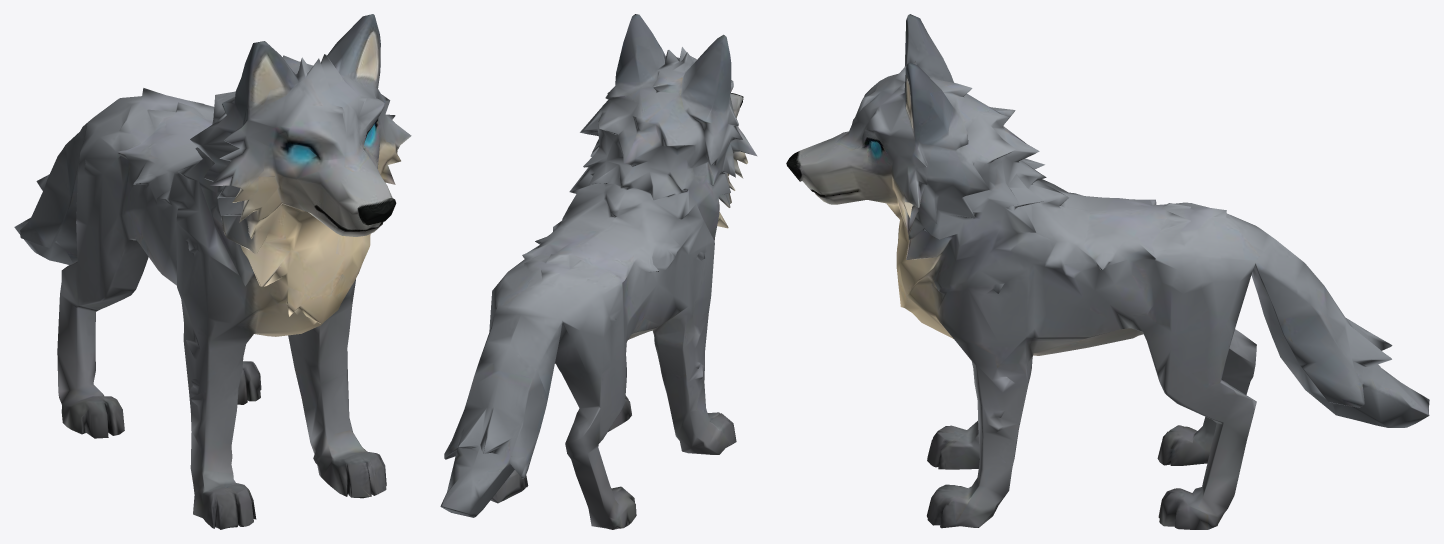
The model's file is frost_wolf.glb.
The picture shows the model from 3 angles, left to right: view 1: azimuth 30°, elevation 25°; view 2: azimuth 150°, elevation 25°; view 3: azimuth 270°, elevation 25°; orthographic projection. The views are drawn at different scales.
Parts seen in each view (by area): view 1: tripo_node_506ff67a-f391-4157-8666-a9feda9e0d4b; view 2: tripo_node_506ff67a-f391-4157-8666-a9feda9e0d4b; view 3: tripo_node_506ff67a-f391-4157-8666-a9feda9e0d4b.
Boxes of the visible parts, left/top/right/bottom form: tripo_node_506ff67a-f391-4157-8666-a9feda9e0d4b: left=14, top=14, right=411, bottom=529; tripo_node_506ff67a-f391-4157-8666-a9feda9e0d4b: left=440, top=14, right=757, bottom=529; tripo_node_506ff67a-f391-4157-8666-a9feda9e0d4b: left=786, top=14, right=1429, bottom=529.
Size of the model in its own units: 0.3314 by 0.7734 by 1.
1 material, 1 textured.
